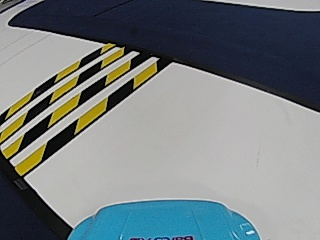bump: (7, 53, 118, 156)
